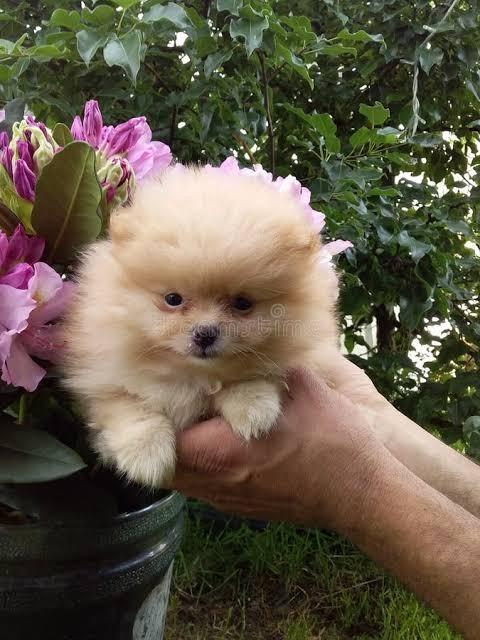puppy-dog: (57, 163, 343, 490)
